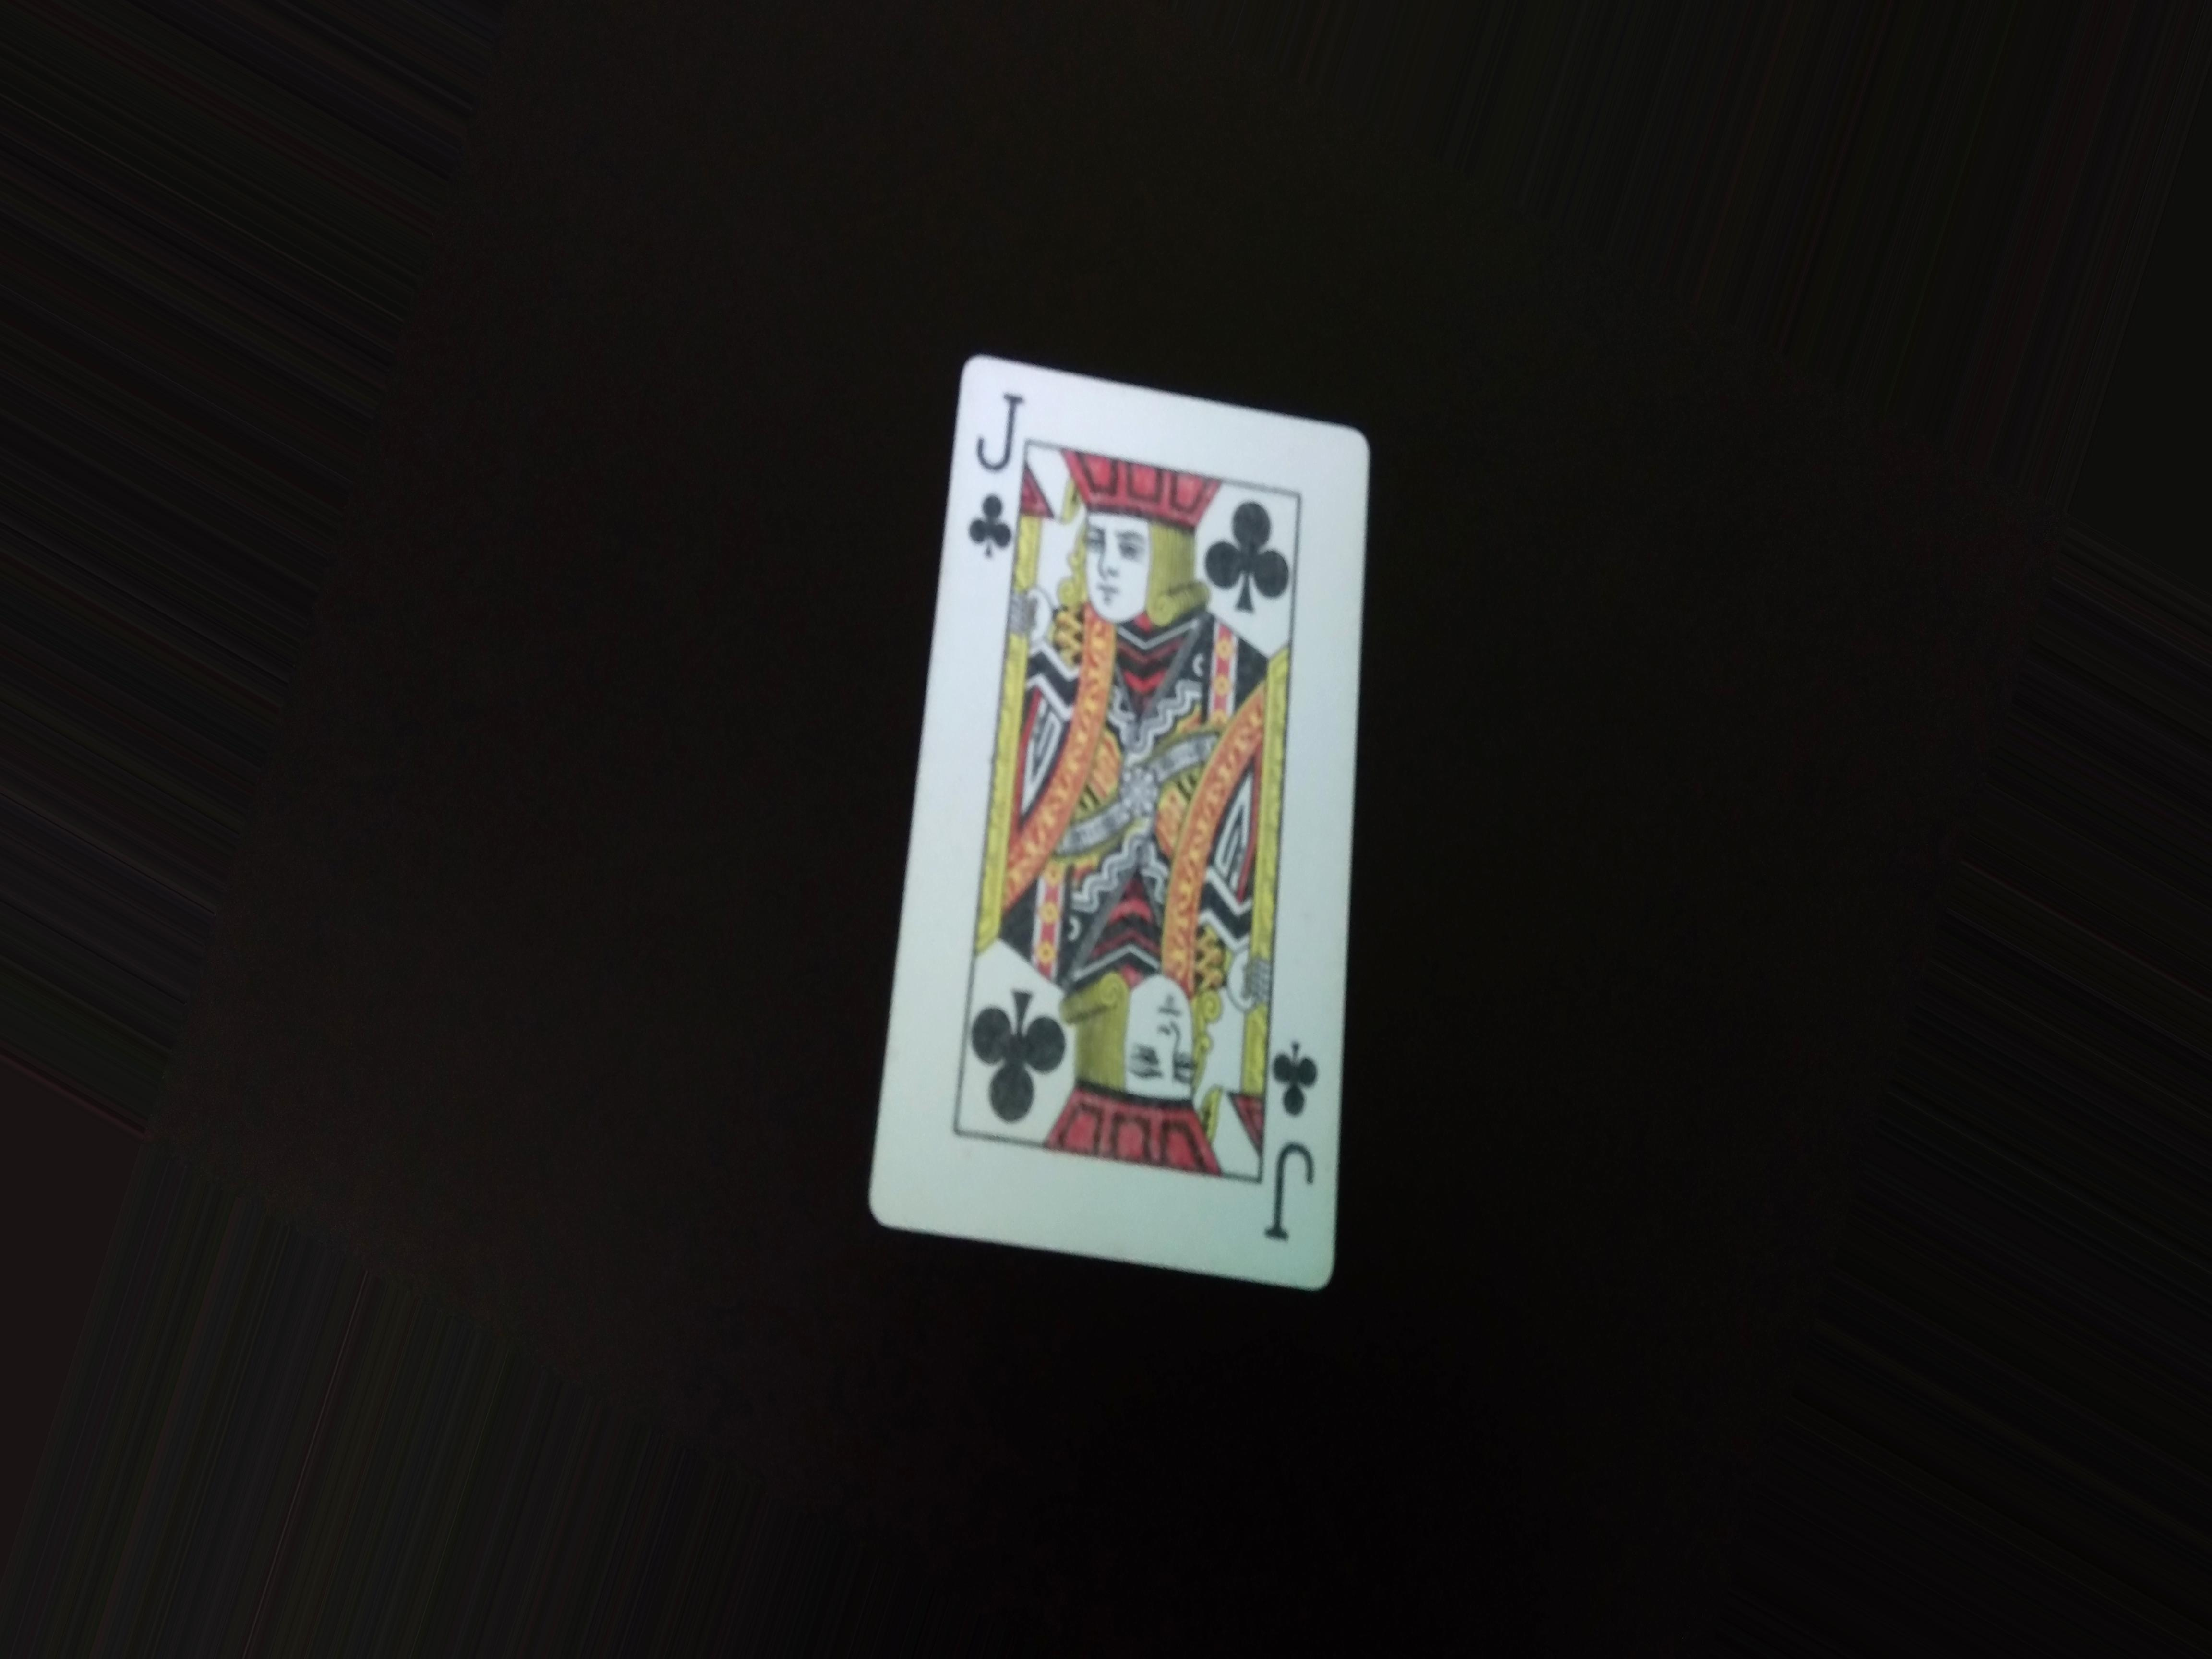JC: (979, 375, 1017, 577)
